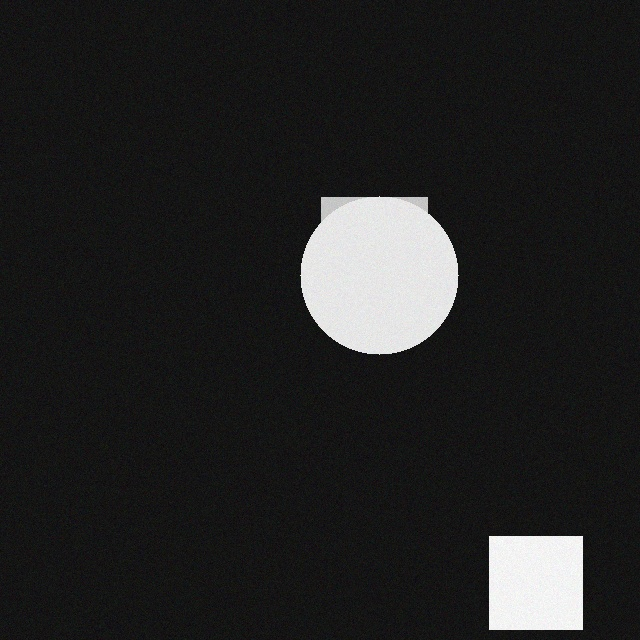circle: (312, 200, 470, 358)
square: (333, 201, 439, 307), (501, 540, 594, 633)
